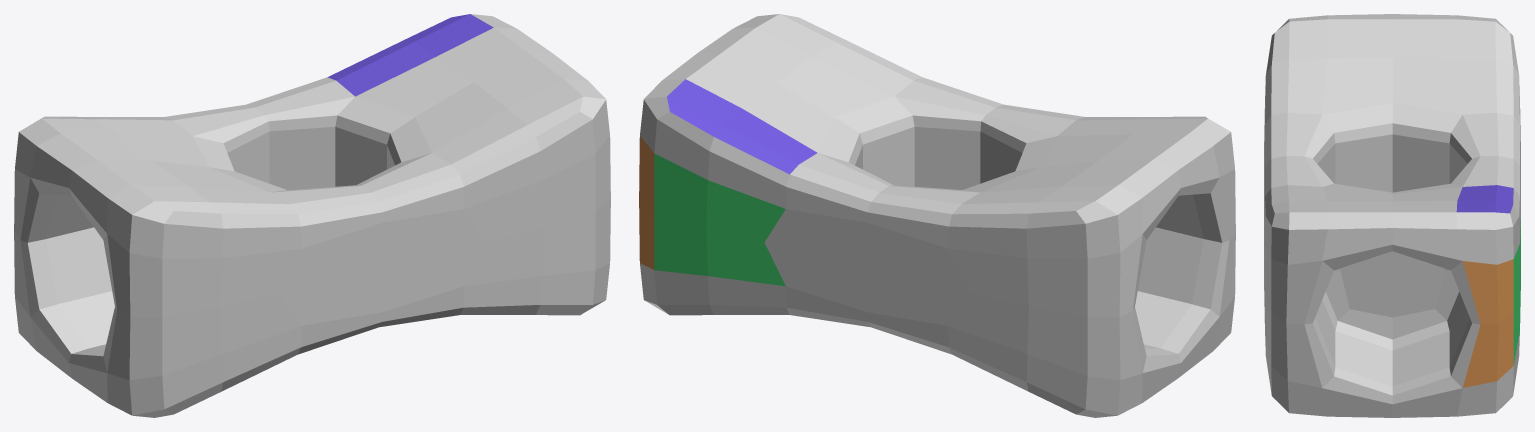
3 renders of one model, left to right at view 1: azimuth 30°, elevation 25°; view 2: azimuth 150°, elevation 25°; view 3: azimuth 270°, elevation 25°, orthographic. The views are drawn at different scales.
Parts seen in each view (by area): view 1: Base2.001; view 2: Base2.001; view 3: Base2.001.
Boxes of the visible parts, left/top/right/bottom form: Base2.001: left=14, top=14, right=610, bottom=417; Base2.001: left=639, top=14, right=1235, bottom=417; Base2.001: left=1264, top=14, right=1520, bottom=417.
Size of the model in its own units: 2 by 0.8611 by 1.
